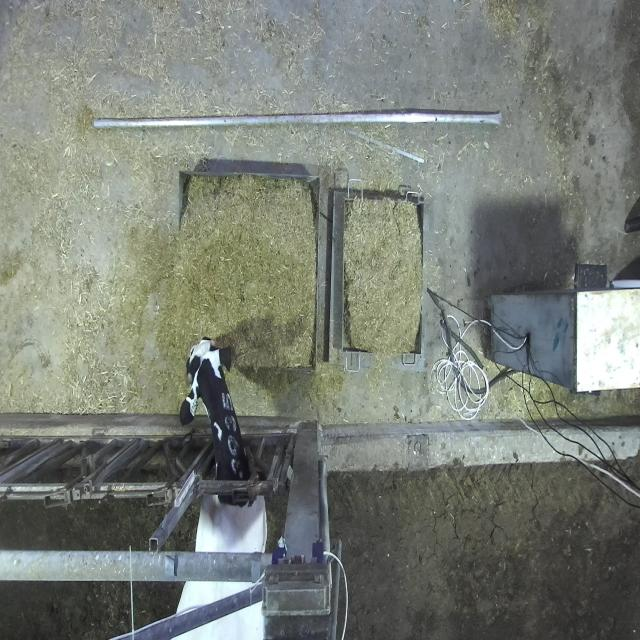cow: (178, 338, 235, 427)
